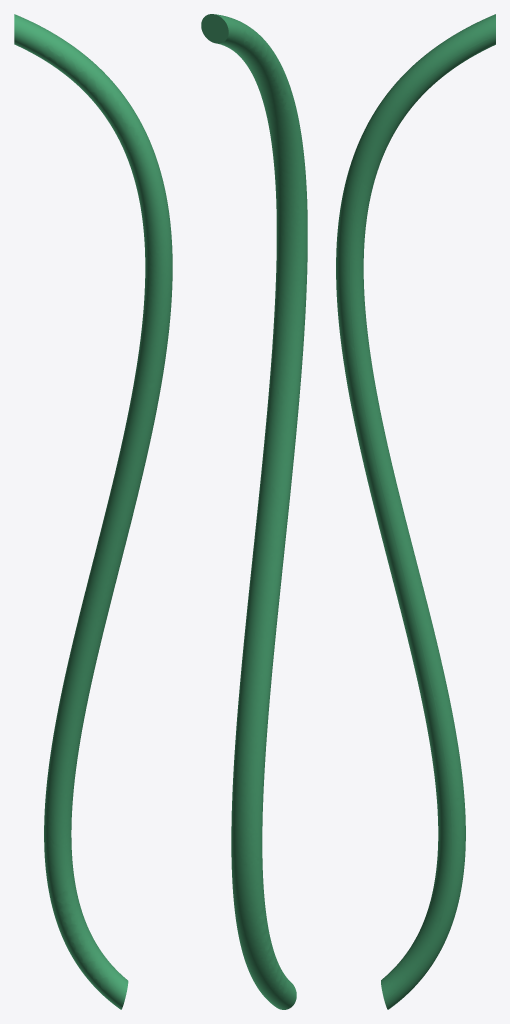
File: motor_lead_green.glb
The picture shows the model from 3 angles, left to right: view 1: azimuth 90°, elevation 25°; view 2: azimuth 150°, elevation 25°; view 3: azimuth 270°, elevation 25°; orthographic projection. The views are drawn at different scales.
Parts seen in each view (by area): view 1: geometry_0; view 2: geometry_0; view 3: geometry_0.
Boxes of the visible parts, bbox=[...] form: geometry_0: bbox=[14, 14, 172, 1009]; geometry_0: bbox=[201, 14, 307, 1009]; geometry_0: bbox=[336, 14, 495, 1009].
Size of the model in its own units: 2.21 by 57.38 by 8.34.
